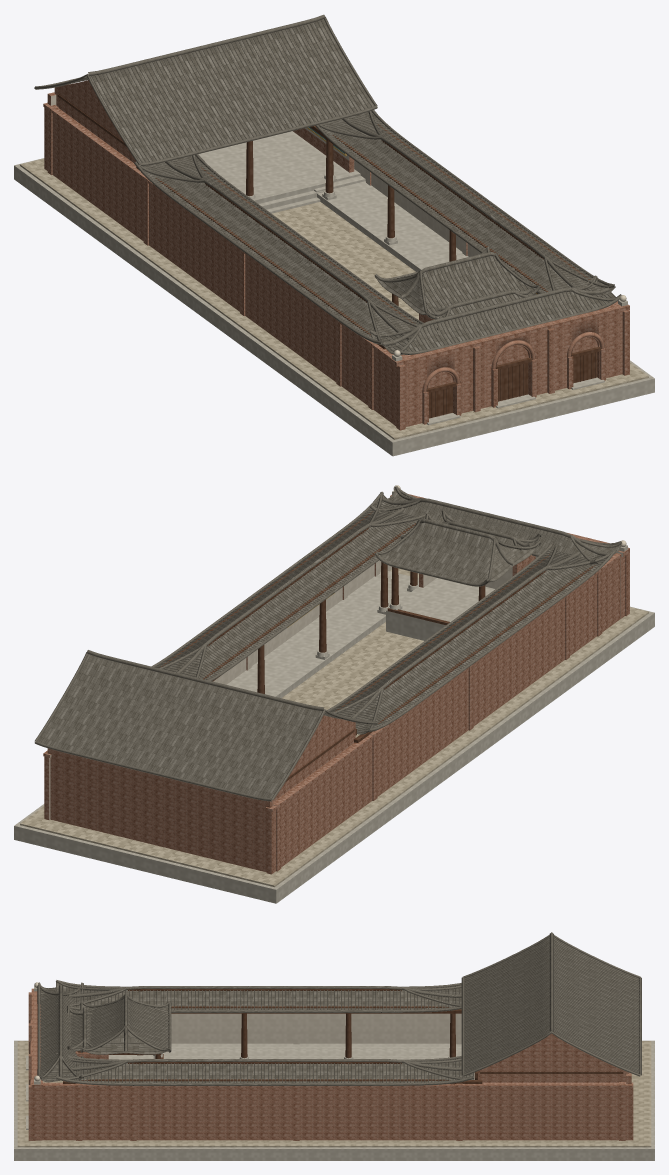
Rendered from combined-b.glb.
3 views of the same model, one above another, from view 1: azimuth 30°, elevation 25°; view 2: azimuth 150°, elevation 25°; view 3: azimuth 270°, elevation 25° (orthographic). The views are drawn at different scales.
Parts seen in each view (by area): view 1: 08_HallRoofCandidate, 02_Enclosure, 01_Base, 07_Entrance, 05_EastGallery, 04_WestGallery, 03_MainHall, 06_Stage; view 2: 02_Enclosure, 08_HallRoofCandidate, 01_Base, 05_EastGallery, 04_WestGallery, 06_Stage, 07_Entrance, 03_MainHall; view 3: 02_Enclosure, 08_HallRoofCandidate, 01_Base, 04_WestGallery, 05_EastGallery, 06_Stage, 07_Entrance, 03_MainHall.
Part boxes in pixels (bbox=[...]): 08_HallRoofCandidate: bbox=[34, 14, 377, 166]; 02_Enclosure: bbox=[43, 92, 617, 423]; 01_Base: bbox=[14, 158, 654, 456]; 07_Entrance: bbox=[370, 275, 629, 430]; 05_EastGallery: bbox=[310, 110, 615, 300]; 04_WestGallery: bbox=[134, 154, 438, 349]; 03_MainHall: bbox=[58, 97, 360, 213]; 06_Stage: bbox=[374, 246, 540, 355]; 02_Enclosure: bbox=[43, 553, 621, 874]; 08_HallRoofCandidate: bbox=[34, 650, 377, 801]; 01_Base: bbox=[14, 568, 654, 903]; 05_EastGallery: bbox=[151, 491, 432, 698]; 04_WestGallery: bbox=[324, 542, 616, 742]; 06_Stage: bbox=[374, 510, 540, 640]; 07_Entrance: bbox=[369, 485, 629, 618]; 03_MainHall: bbox=[273, 729, 356, 801]; 02_Enclosure: bbox=[42, 1013, 633, 1140]; 08_HallRoofCandidate: bbox=[461, 932, 641, 1082]; 01_Base: bbox=[14, 1040, 654, 1160]; 04_WestGallery: bbox=[56, 980, 461, 1059]; 05_EastGallery: bbox=[56, 1053, 482, 1085]; 06_Stage: bbox=[67, 994, 171, 1059]; 07_Entrance: bbox=[26, 982, 83, 1140]; 03_MainHall: bbox=[472, 1071, 623, 1082].
Size of the model in its own units: 11.8 by 6.39 by 29.5.
Materials: 13 (10 with a texture image).
